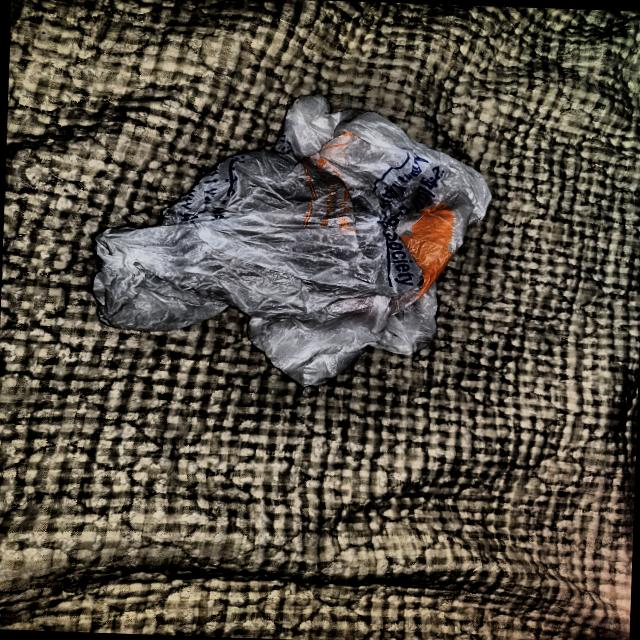plastic bag: (85, 81, 536, 398)
